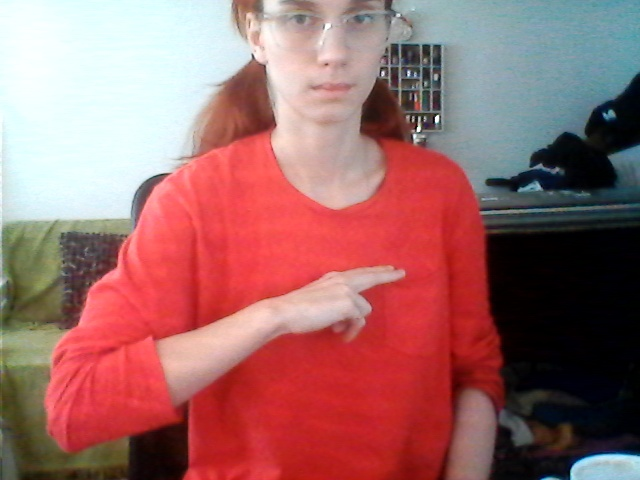frajer: (255, 252, 451, 349)
